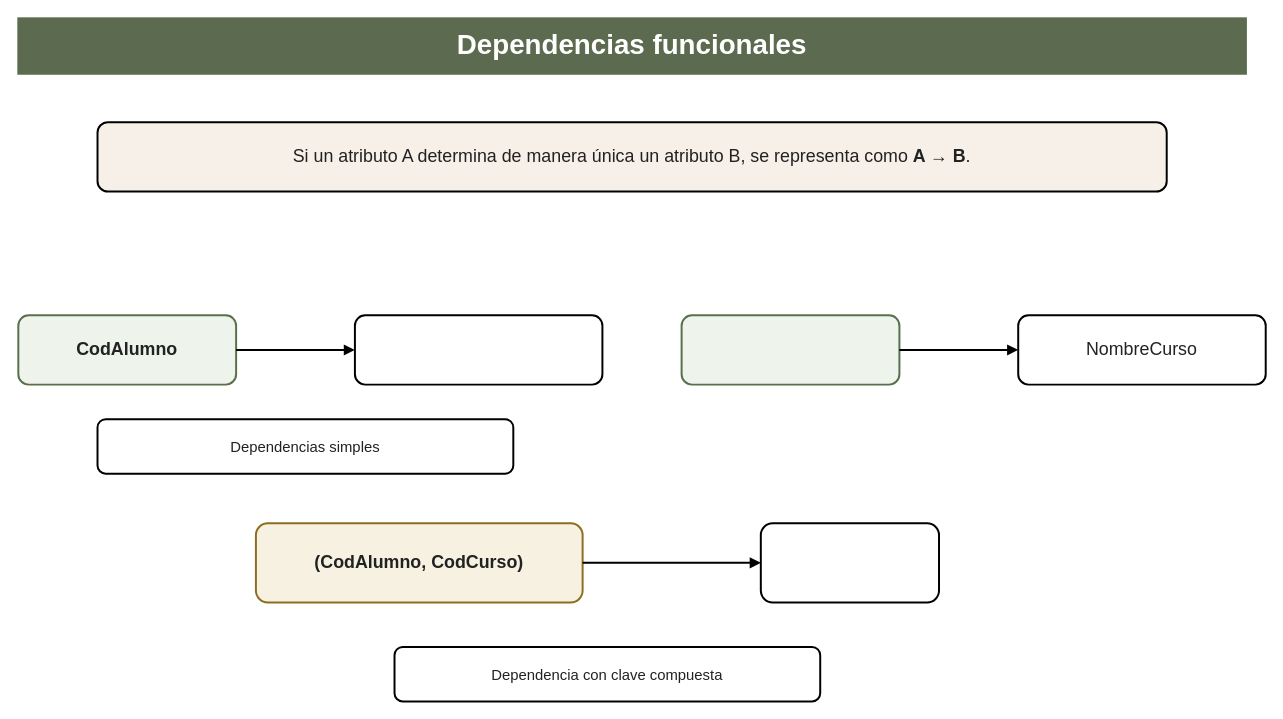
The diagram is 1283 pixels wide and 719 high, and some of its shapes have lost their labels. The shapes that lost their labels are listed below. From the top down, each one's box as (x1, y1, x2, y2) in pixels, then its label:
(353, 314, 603, 385): NombreAlumno
(680, 314, 900, 385): CodCurso
(759, 522, 940, 603): Nota
